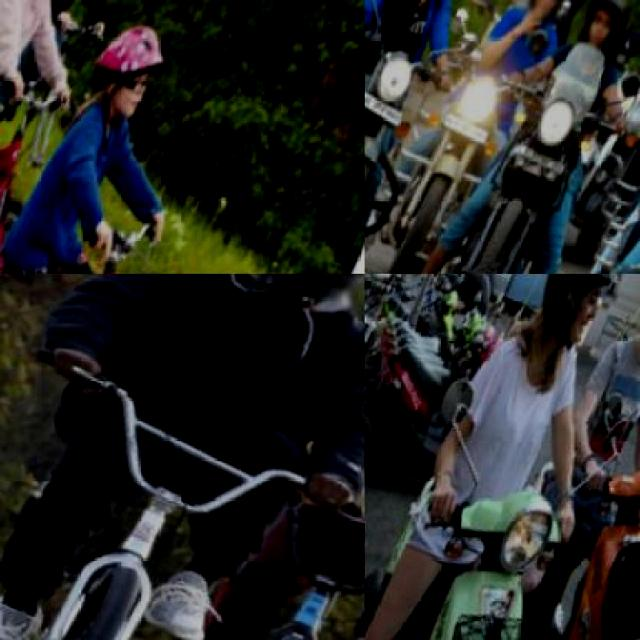With Helmet: (72, 0, 187, 135), (506, 274, 639, 369), (228, 274, 363, 320), (570, 0, 638, 60), (515, 0, 588, 29)
